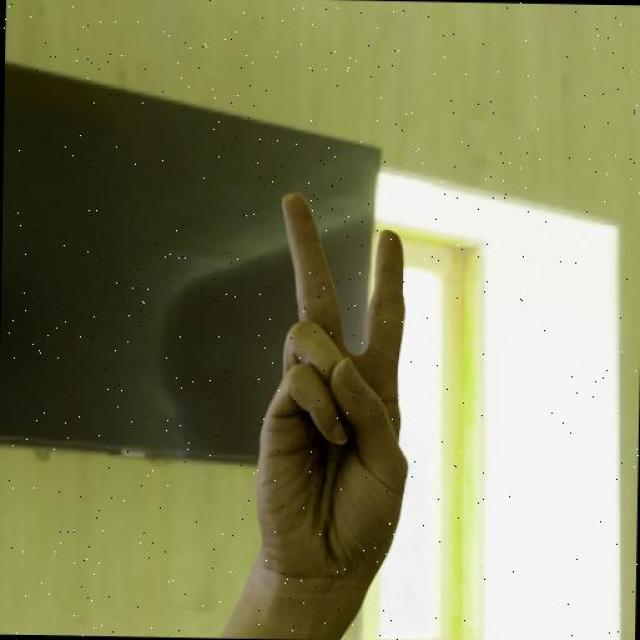V: (243, 198, 422, 580)
